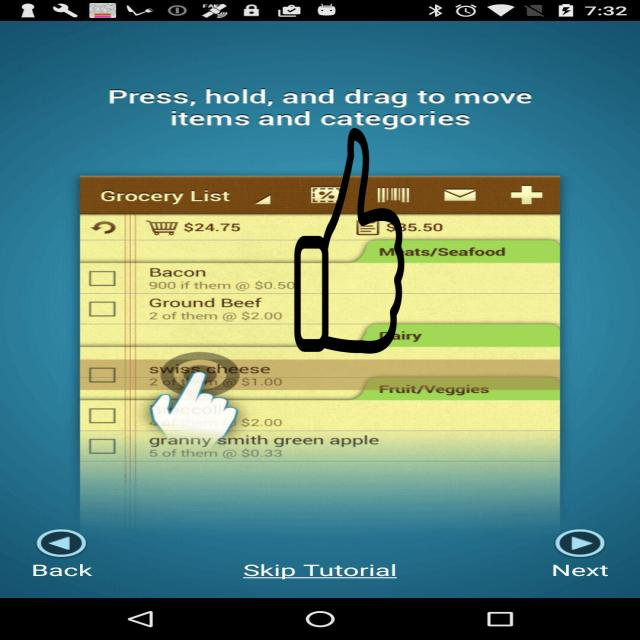privacy zuckering: (293, 128, 406, 354)
